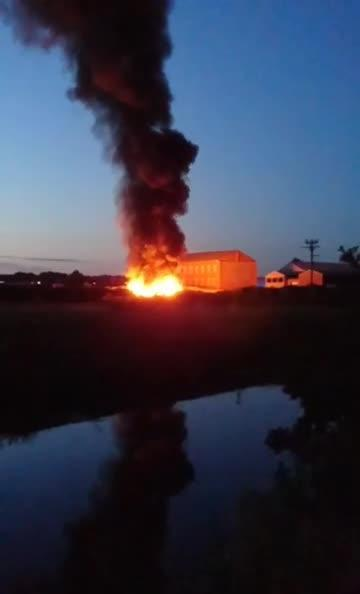fire: (129, 269, 190, 300)
smoke: (89, 10, 157, 113), (121, 146, 176, 246)
